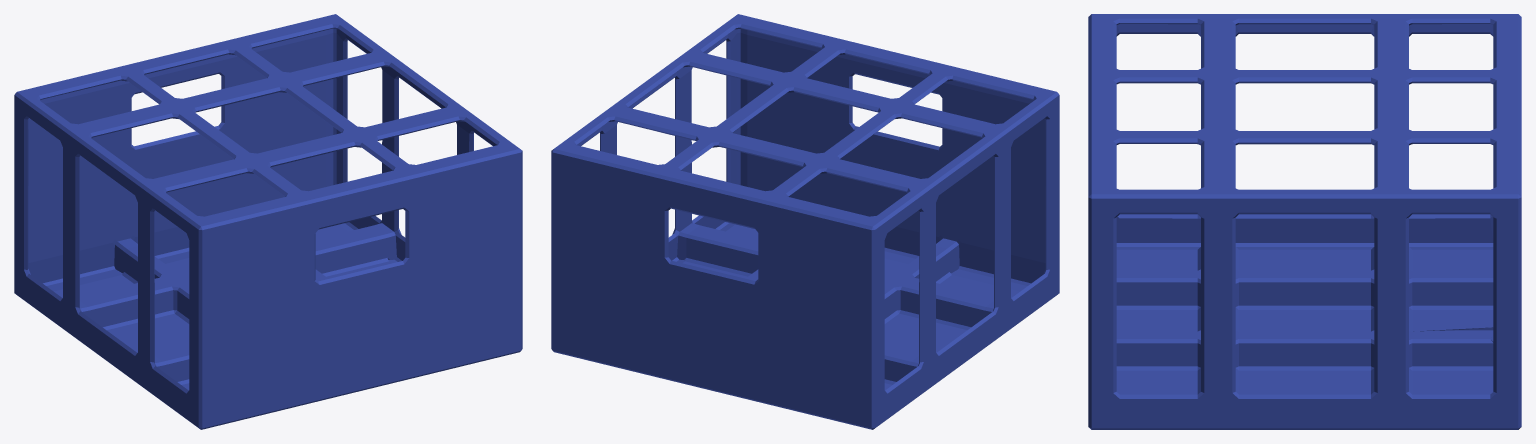
File: BeerBasket.fbx
The picture shows the model from 3 angles, left to right: view 1: azimuth 30°, elevation 25°; view 2: azimuth 150°, elevation 25°; view 3: azimuth 270°, elevation 25°; orthographic projection. The views are drawn at different scales.
Parts seen in each view (by area): view 1: Basket; view 2: Basket; view 3: Basket.
Part boxes in pixels (x1,y1,x2,y2): Basket: [14, 14, 522, 429]; Basket: [551, 14, 1059, 429]; Basket: [1088, 14, 1521, 429].
Bounding box in the file's own units: 50 × 50 × 30.
